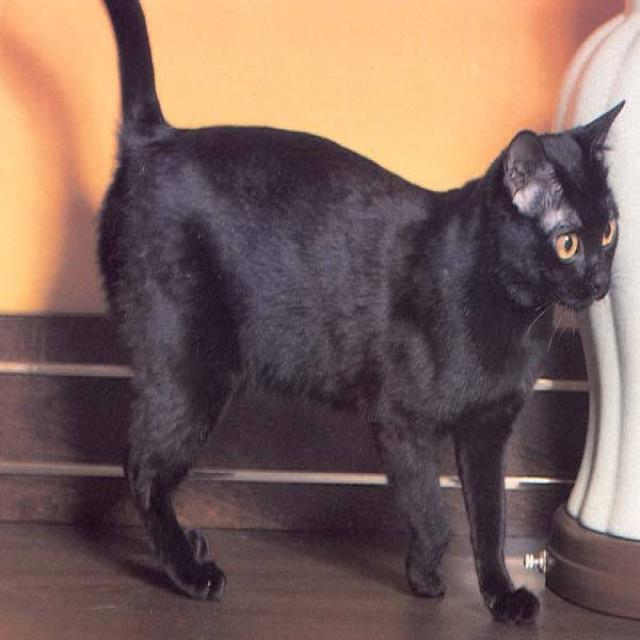Bombay: (486, 102, 629, 311)
